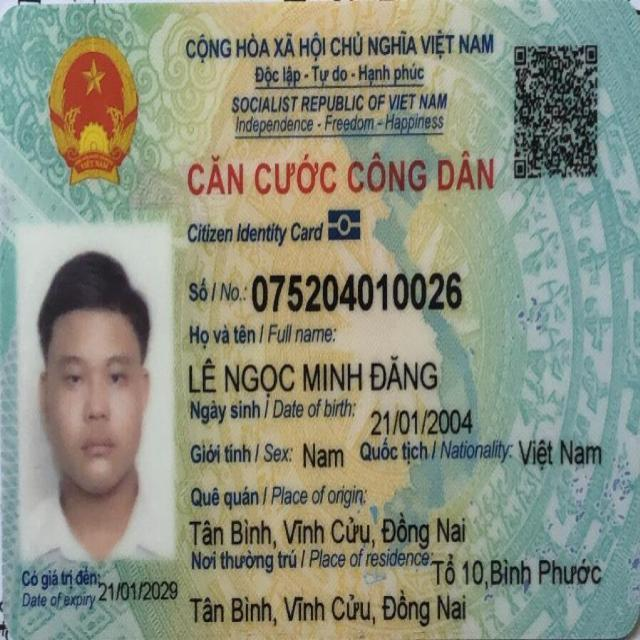current_place: (187, 589, 468, 629), (426, 551, 601, 588)
dob: (366, 402, 475, 436)
expire_date: (96, 575, 179, 605)
gender: (299, 438, 345, 473)
id: (247, 267, 466, 315)
name: (185, 354, 440, 395)
nationality: (515, 429, 603, 471)
origin_place: (187, 506, 464, 546)
